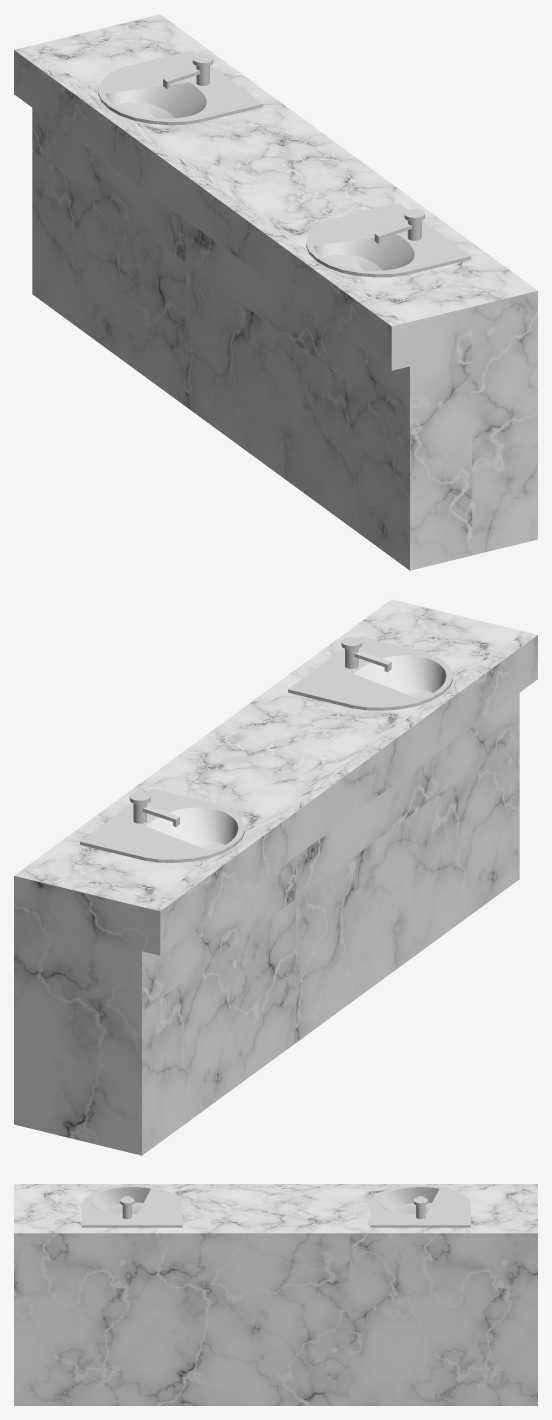
File: Bathroom_Sink.fbx
The picture shows the model from 3 angles, top to bottom: view 1: azimuth 30°, elevation 25°; view 2: azimuth 150°, elevation 25°; view 3: azimuth 270°, elevation 25°; orthographic projection. The views are drawn at different scales.
Parts seen in each view (by area): view 1: Cube.126, Cube.128, Cube.127; view 2: Cube.126, Cube.128, Cube.127; view 3: Cube.126, Cube.127, Cube.128.
Part boxes in pixels (box(x1,y1,x2,y2)): Cube.126: box(14, 14, 537, 570); Cube.128: box(306, 203, 471, 277); Cube.127: box(98, 50, 263, 125); Cube.126: box(14, 599, 537, 1155); Cube.128: box(288, 636, 452, 710); Cube.127: box(80, 788, 244, 862); Cube.126: box(14, 1184, 537, 1405); Cube.127: box(370, 1185, 470, 1227); Cube.128: box(82, 1185, 182, 1227).
Bounding box in the file's own units: 60.21 × 109 × 270.
